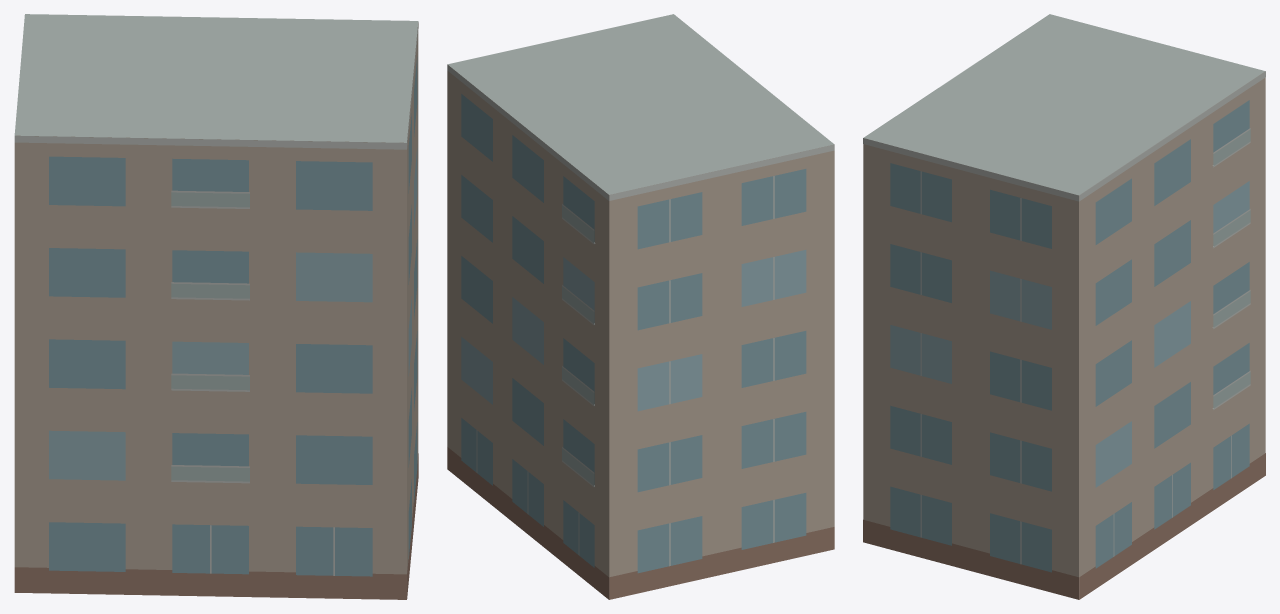
The model's file is survey-upis-32887667.glb.
The picture shows the model from 3 angles, left to right: view 1: azimuth 30°, elevation 25°; view 2: azimuth 150°, elevation 25°; view 3: azimuth 270°, elevation 25°; orthographic projection. The views are drawn at different scales.
Parts seen in each view (by area): view 1: survey-upis-32887667.tmp; view 2: survey-upis-32887667.tmp; view 3: survey-upis-32887667.tmp.
Boxes of the visible parts, x1=… form: survey-upis-32887667.tmp: x1=14, y1=14, x2=418, y2=599; survey-upis-32887667.tmp: x1=447, y1=14, x2=834, y2=599; survey-upis-32887667.tmp: x1=863, y1=14, x2=1265, y2=599.
Size of the model in its own units: 15.6 by 16.2 by 14.63.
